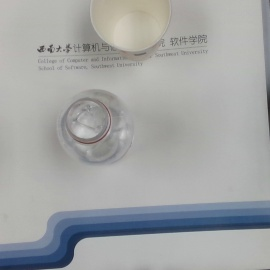bottle: (55, 87, 134, 166)
cup: (88, 1, 172, 55)
